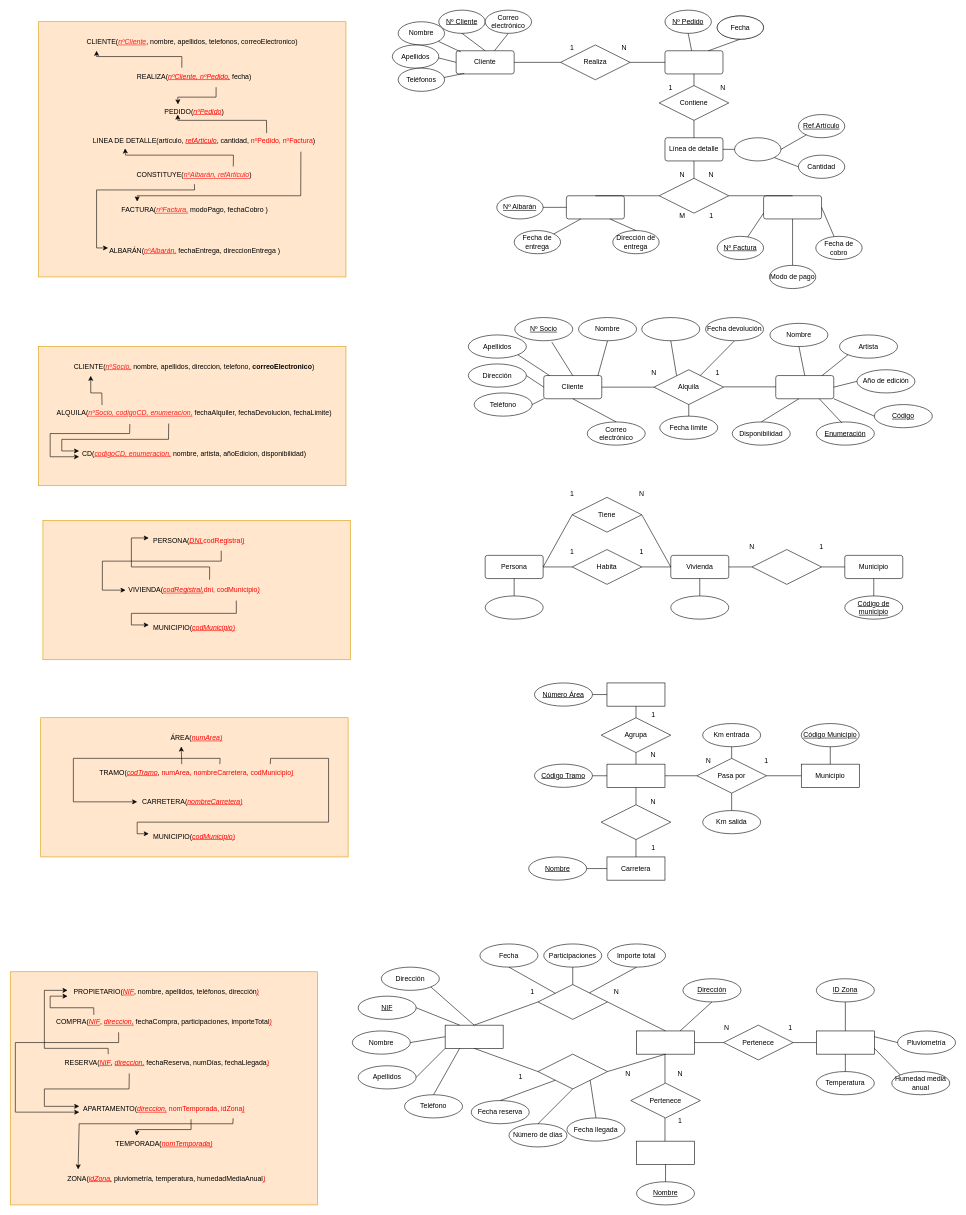
This 966x1215 diagram has some shape labels left out. Here are the shapes that lost their labels. From the top down, the centre of each, then its label:
At (693,62): "Pedido".
At (757,149): "Artículo".
At (595,207): "Albarán".
At (694,195): "Constituye".
At (792,207): "Factura".
At (670,329): "Fecha alquiler".
At (804,387): "CD".
At (786,566): "Compone".
At (514,607): "DNI".
At (699,607): "Código registral".
At (635,694): "Área".
At (635,775): "Tramo".
At (636,822): "Forma".
At (572,1001): "Compra".
At (474,1036): "Propietario".
At (665,1042): "Apartamento".
At (845,1042): "Zona".
At (572,1071): "Reserva".
At (665,1152): "Temporada".
